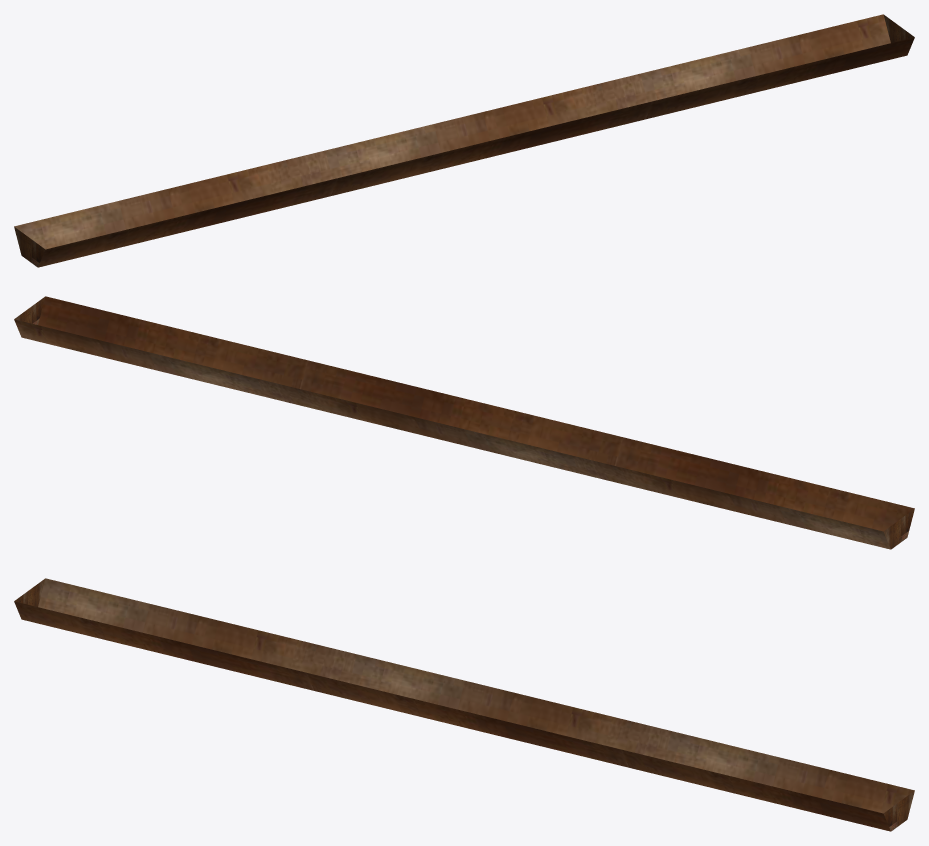
Rendered from nder32.obj.
The picture shows the model from 3 angles, top to bottom: view 1: azimuth 30°, elevation 25°; view 2: azimuth 150°, elevation 25°; view 3: azimuth 330°, elevation 25°; orthographic projection.
Parts seen in each view (by area): view 1: nder32; view 2: nder32; view 3: nder32.
Boxes of the visible parts, x1,y1,x2,y2 form: nder32: (14, 14, 914, 267); nder32: (14, 296, 914, 549); nder32: (14, 578, 914, 831).
Bounding box in the file's own units: 153 × 4 × 9.62.
